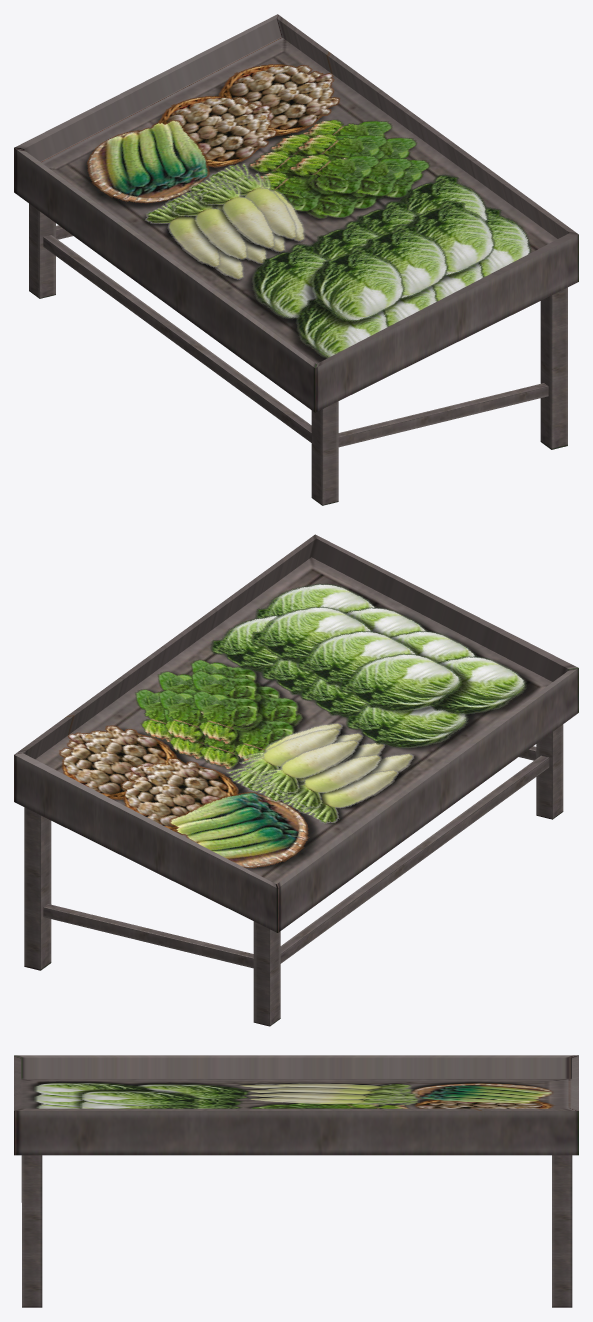
The model's file is cheso_gage.FBX.
The picture shows the model from 3 angles, top to bottom: view 1: azimuth 30°, elevation 25°; view 2: azimuth 150°, elevation 25°; view 3: azimuth 270°, elevation 25°; orthographic projection. The views are drawn at different scales.
Parts seen in each view (by area): view 1: polySurface25; view 2: polySurface25; view 3: polySurface25.
Part boxes in pixels (left/top/right/bottom): polySurface25: left=14, top=14, right=578, bottom=505; polySurface25: left=14, top=534, right=578, bottom=1026; polySurface25: left=14, top=1055, right=578, bottom=1307.
Bounding box in the file's own units: 14.28 × 11.01 × 28.23.
